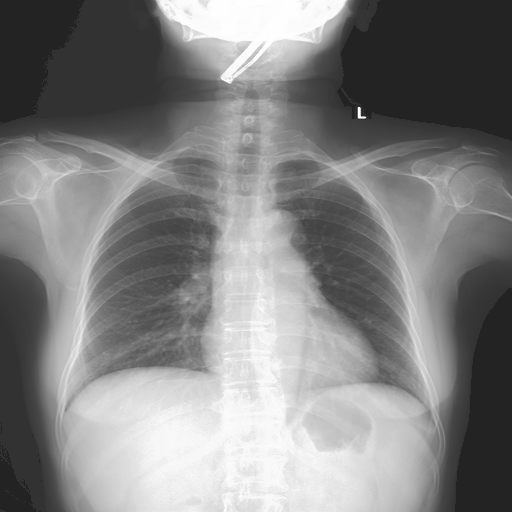Consolidation: (267, 209, 308, 257)
Nodule/Mass: (201, 318, 378, 385)
